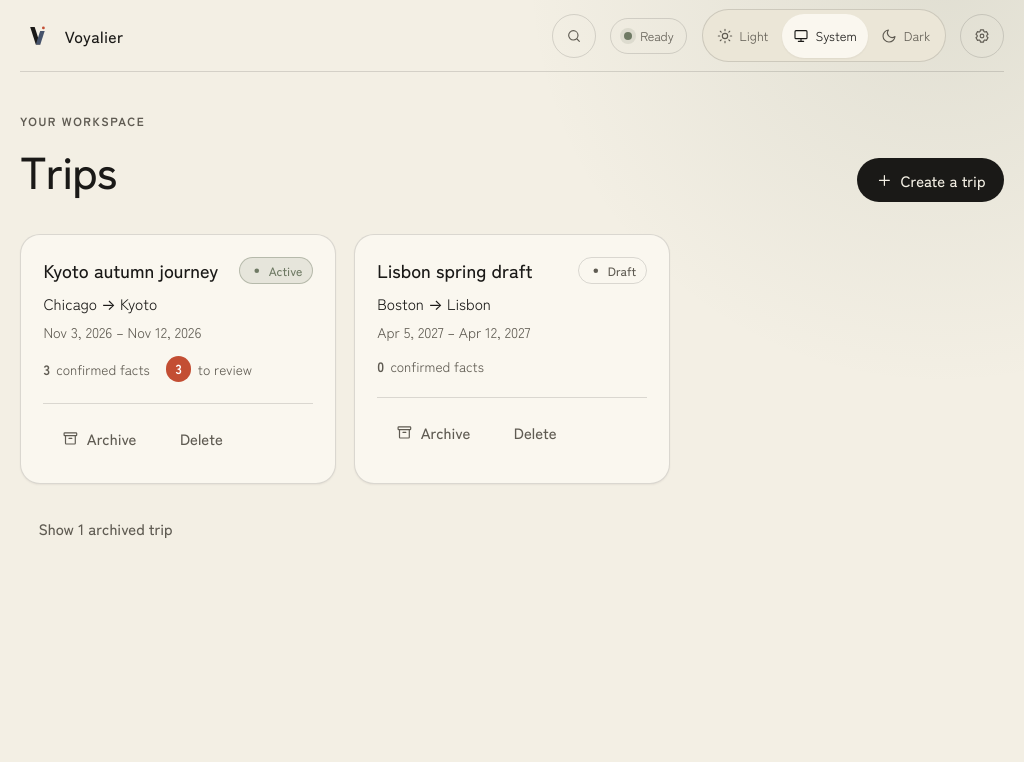
Test: official travel advice › fetches a dated panel after an explicit country choice and click
Step 1. Click the button with aria-label "Open Kyoto autumn journey" → (131, 270), box [43,257,218,283]
(page scrolled)
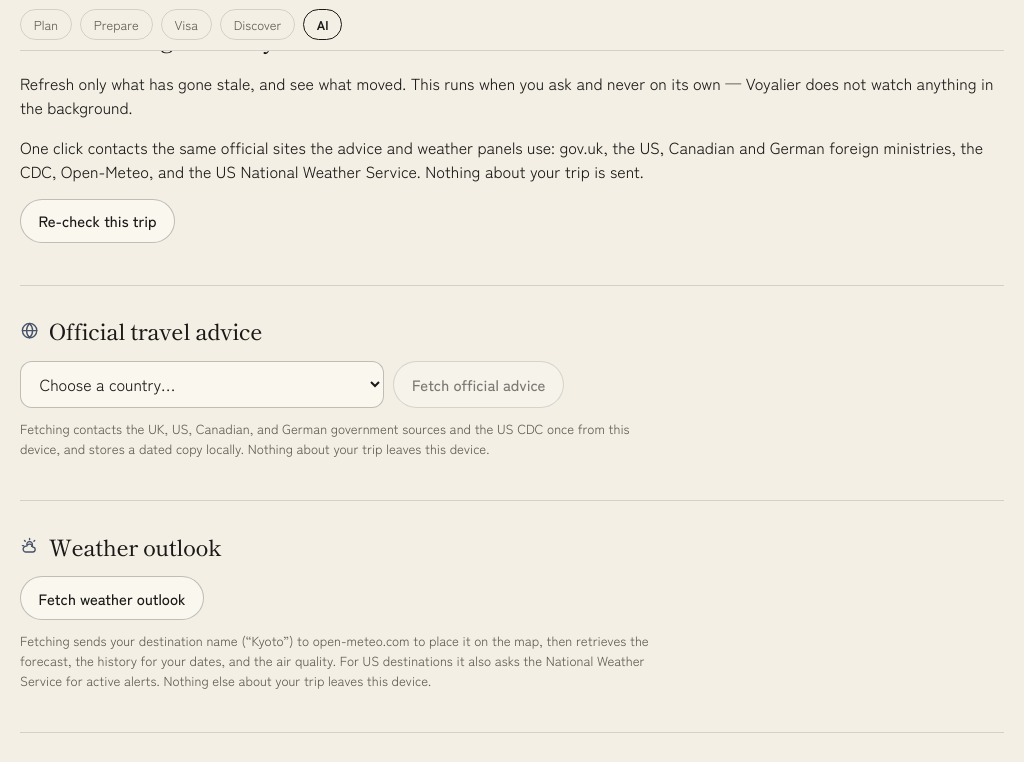
Expected: the text "Read the full advice" is not shown
Result: the text "contacts the UK, US, Canadian, and German" is shown at [20,419,630,458]
Result: the button "Fetch official advice" is disabled at [393,361,564,408]
Step 2. Select "Japan" in the dropdown named "Country to fetch official advice for" → (202, 384), box [20,361,384,408]
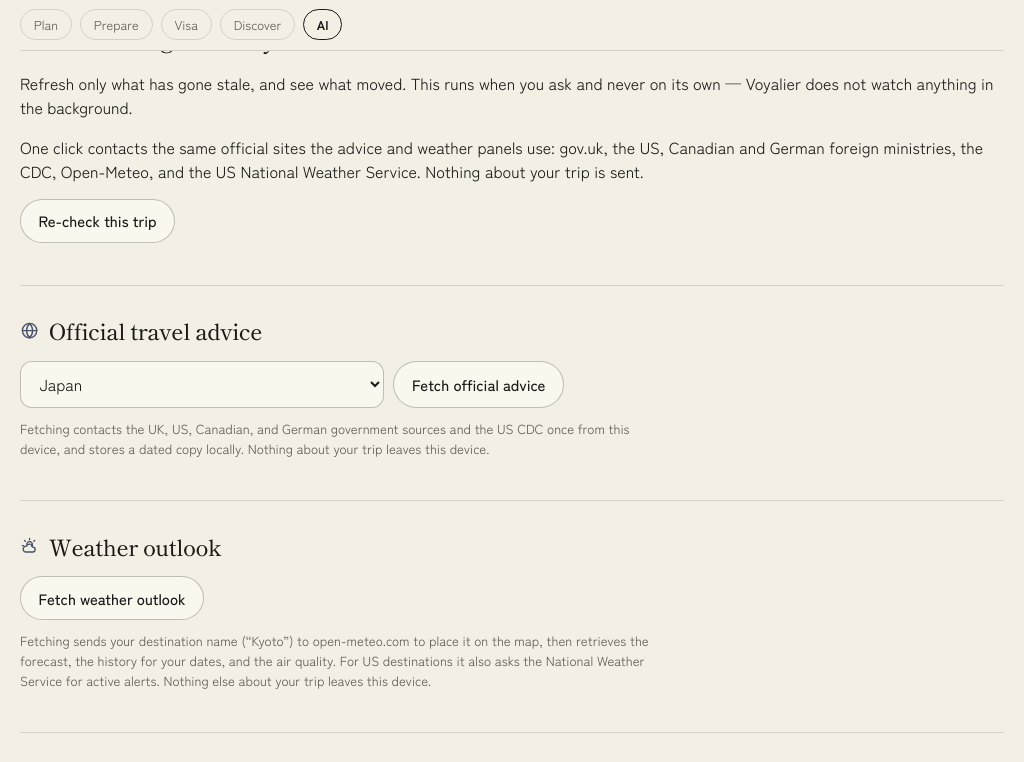
Step 3. Click the button "Fetch official advice" → (479, 384), box [393,361,564,408]
(page scrolled)
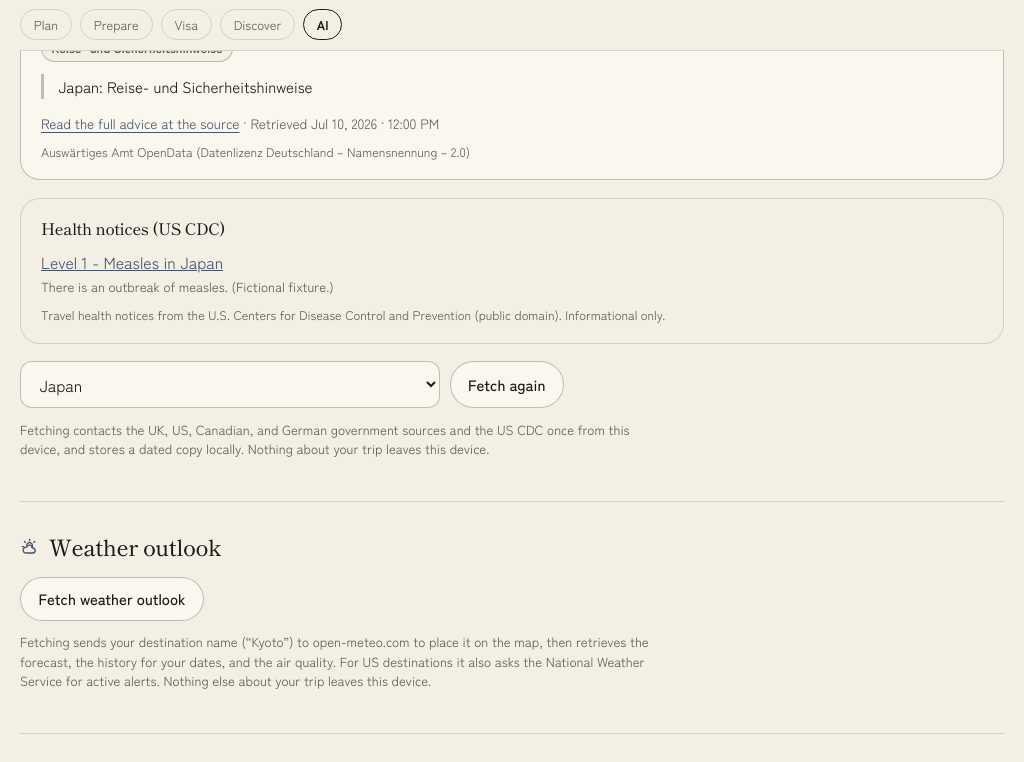
Expected: the heading "Auswärtiges Amt (Germany)" is shown, [41,0,251,24]
Result: the button "Fetch again" is shown at [450,361,564,408]
